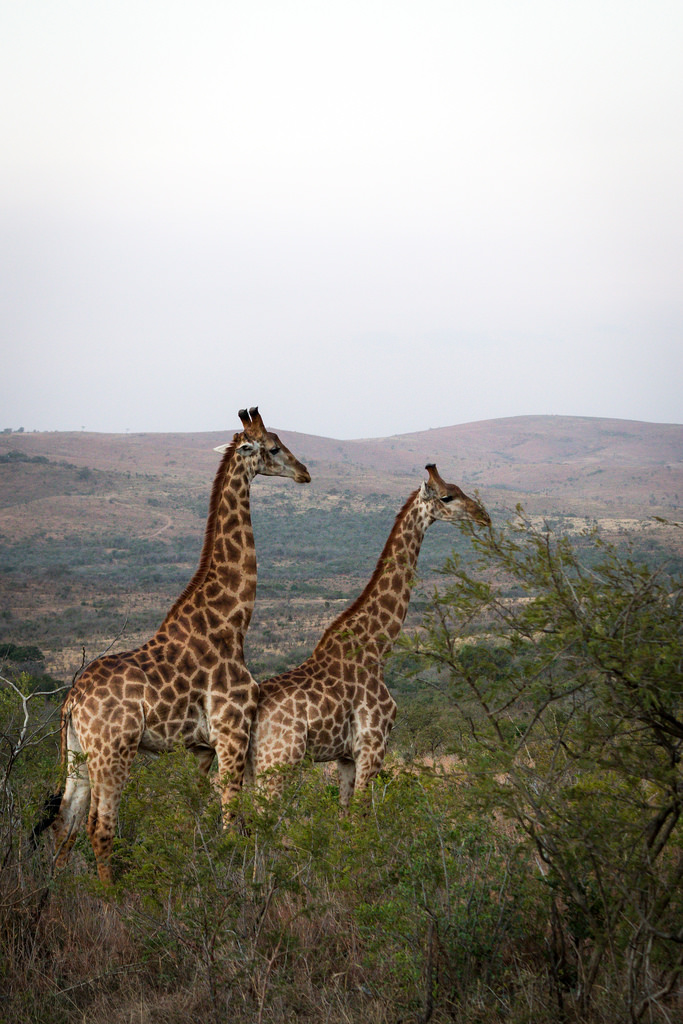giraffe: (74, 399, 320, 831), (251, 445, 505, 813)
